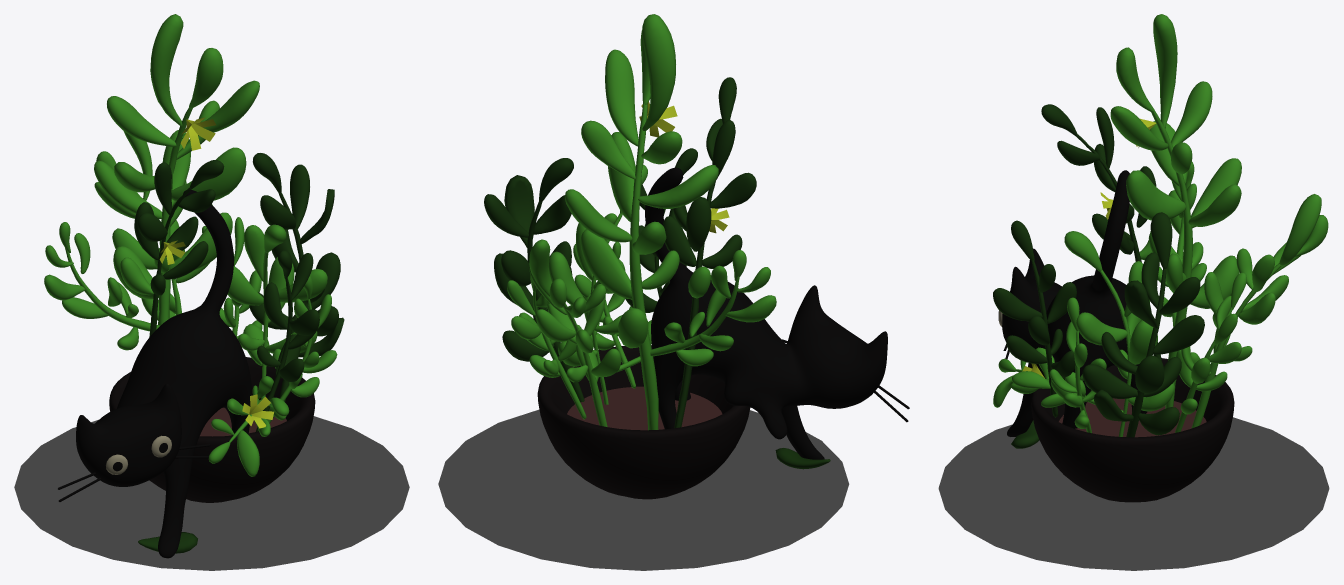
Rendered from catinflowers.obj.
3 renders of one model, left to right at view 1: azimuth 30°, elevation 25°; view 2: azimuth 150°, elevation 25°; view 3: azimuth 270°, elevation 25°, orthographic. The views are drawn at different scales.
Visible parts, largest first — view 1: pCylinder5; view 2: pCylinder5; view 3: pCylinder5.
Part boxes in pixels (box(x1,y1,x2,y2)): pCylinder5: box(14, 14, 409, 570); pCylinder5: box(438, 14, 909, 570); pCylinder5: box(938, 14, 1329, 570).
Bounding box in the file's own units: 7.01 × 8.38 × 6.38.
